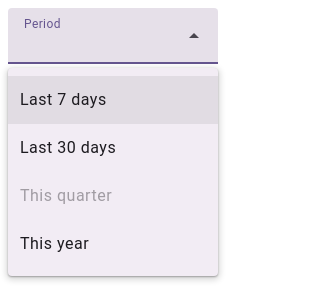
Test case: Select › chooses with a click and closes, keeping focus on the field
The image size is (320, 299).
Earlier steps of the test are not shown.
Step 1. Click the option "This year" → {"x": 55, "y": 244}, box [20,234,89,253]
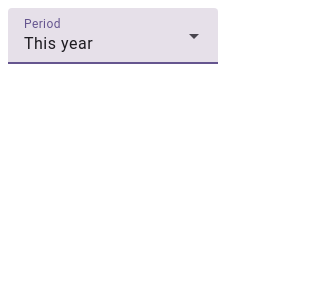
Now the dropdown named "Period" reads "This year", box [24,34,93,53]
Now the list is gone
